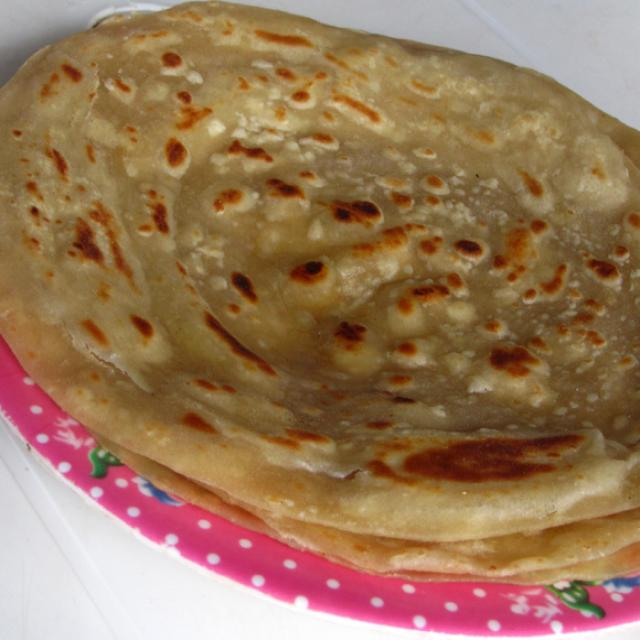roti: (0, 2, 640, 569)
